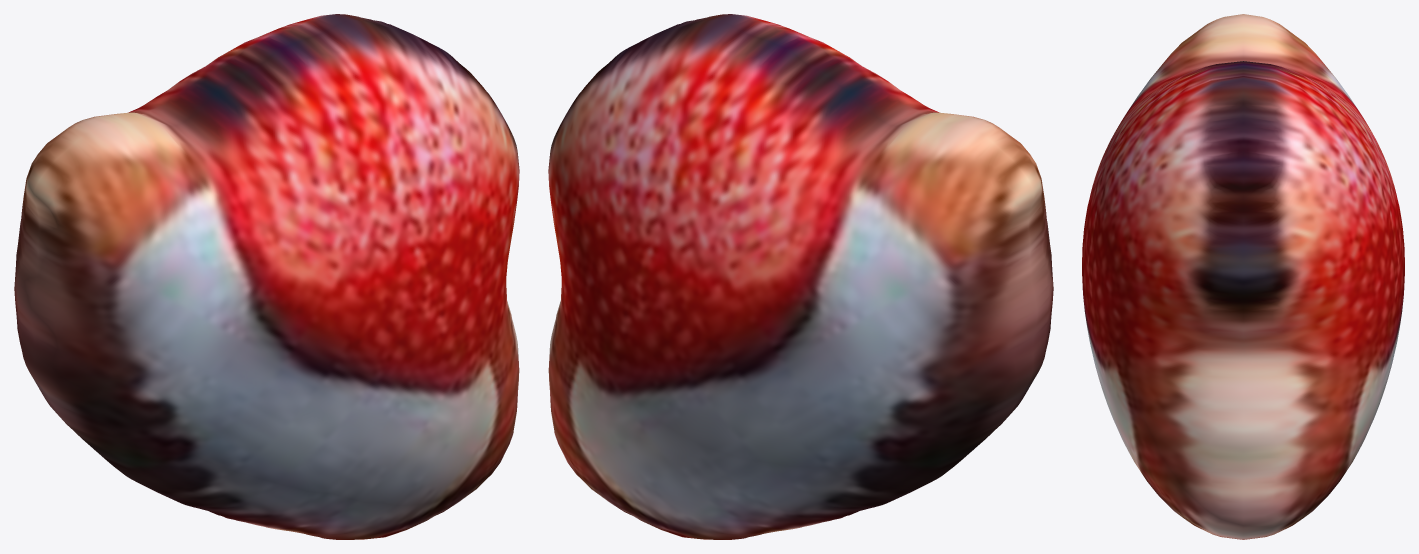
File: 草莓大福.glb
The picture shows the model from 3 angles, left to right: view 1: azimuth 30°, elevation 25°; view 2: azimuth 150°, elevation 25°; view 3: azimuth 270°, elevation 25°; orthographic projection. The views are drawn at different scales.
Visible parts, largest first — view 1: 1271955e-4f88-41d3-8d25-966d518434e5; view 2: 1271955e-4f88-41d3-8d25-966d518434e5; view 3: 1271955e-4f88-41d3-8d25-966d518434e5.
Part boxes in pixels (x1,y1,x2,y2): 1271955e-4f88-41d3-8d25-966d518434e5: (14,14,519,539); 1271955e-4f88-41d3-8d25-966d518434e5: (548,14,1053,539); 1271955e-4f88-41d3-8d25-966d518434e5: (1082,14,1404,539).
Bounding box in the file's own units: 3.4 × 3.49 × 2.34.
Materials: 1 (1 with a texture image).
